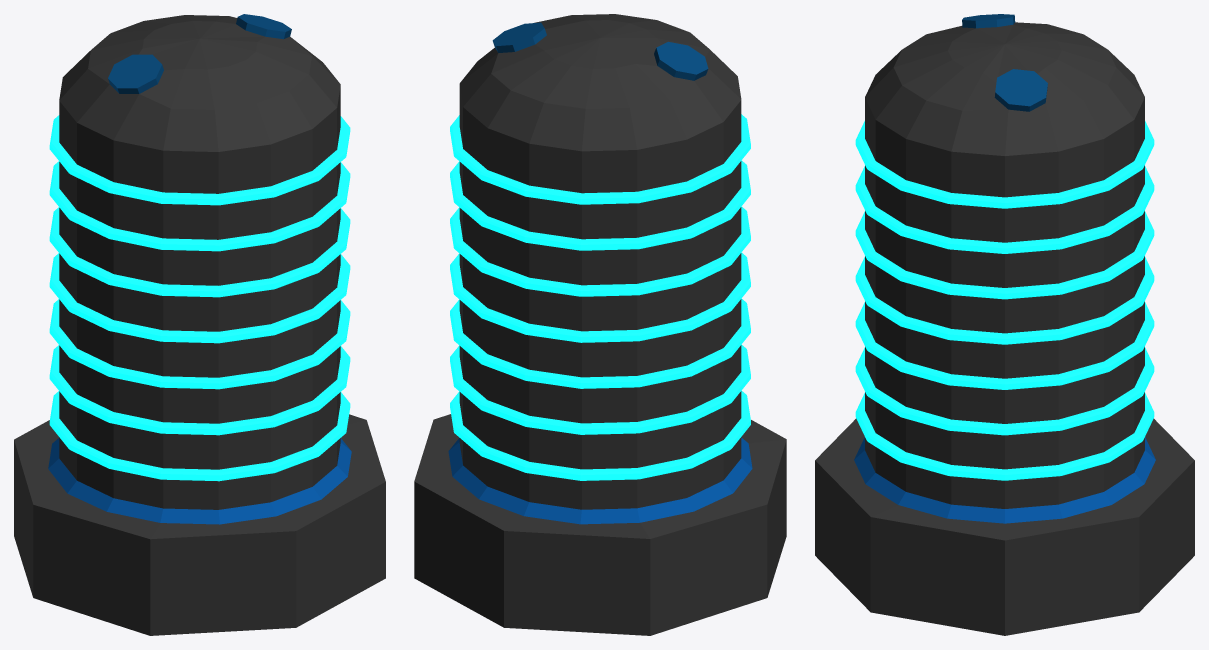
File: GenWater.fbx
The picture shows the model from 3 angles, left to right: view 1: azimuth 30°, elevation 25°; view 2: azimuth 150°, elevation 25°; view 3: azimuth 270°, elevation 25°; orthographic projection.
Parts seen in each view (by area): view 1: Pump; view 2: Pump; view 3: Pump.
Part boxes in pixels (x1=…): Pump: x1=14, y1=14, x2=385, y2=635; Pump: x1=414, y1=14, x2=786, y2=635; Pump: x1=815, y1=14, x2=1194, y2=635.
Bounding box in the file's own units: 658 × 979 × 658.
